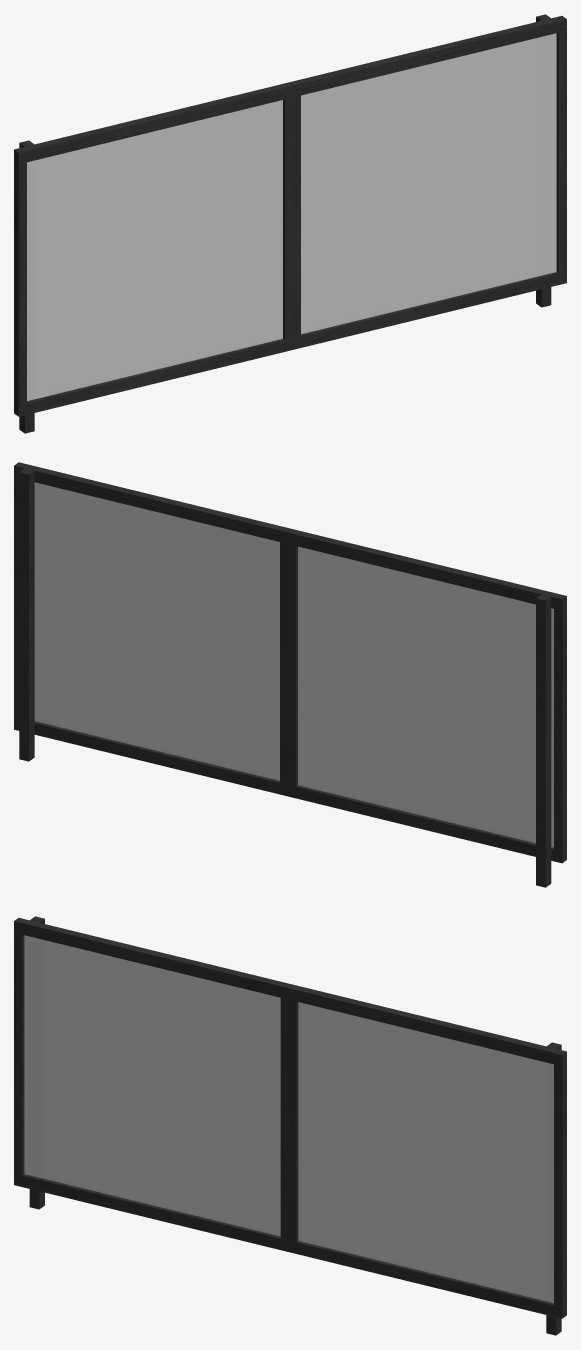
File: EAFpolycadesign_w1998-h920_charcoalgrey.fbx
3 views of the same model, one above another, from view 1: azimuth 30°, elevation 25°; view 2: azimuth 150°, elevation 25°; view 3: azimuth 330°, elevation 25° (orthographic).
Visible parts, largest first — view 1: EAFpolycadesign_w1998-h920_charcoalgray; view 2: EAFpolycadesign_w1998-h920_charcoalgray; view 3: EAFpolycadesign_w1998-h920_charcoalgray.
Boxes of the visible parts, bbox=[...] form: EAFpolycadesign_w1998-h920_charcoalgray: bbox=[14, 14, 566, 433]; EAFpolycadesign_w1998-h920_charcoalgray: bbox=[14, 462, 566, 887]; EAFpolycadesign_w1998-h920_charcoalgray: bbox=[14, 916, 566, 1335].
Bounding box in the file's own units: 200 × 100 × 6.5.
Materials: 3 (2 with a texture image).
